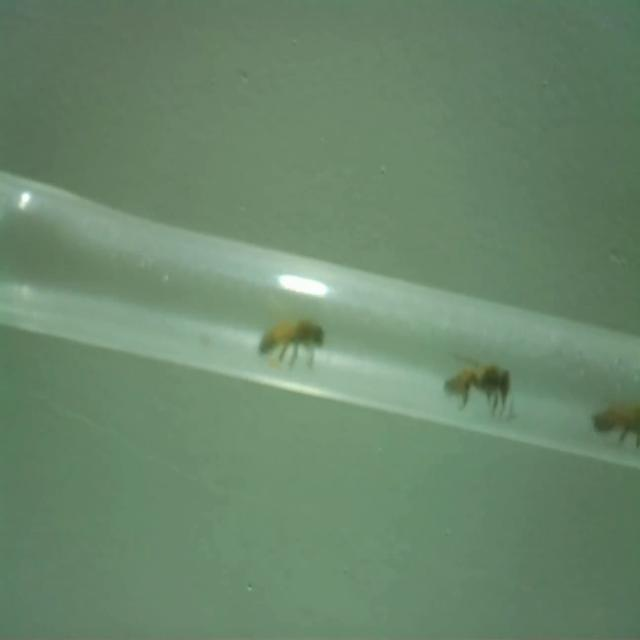Honeybee-Detection: (443, 352, 516, 420), (256, 312, 327, 370), (591, 391, 640, 448)
